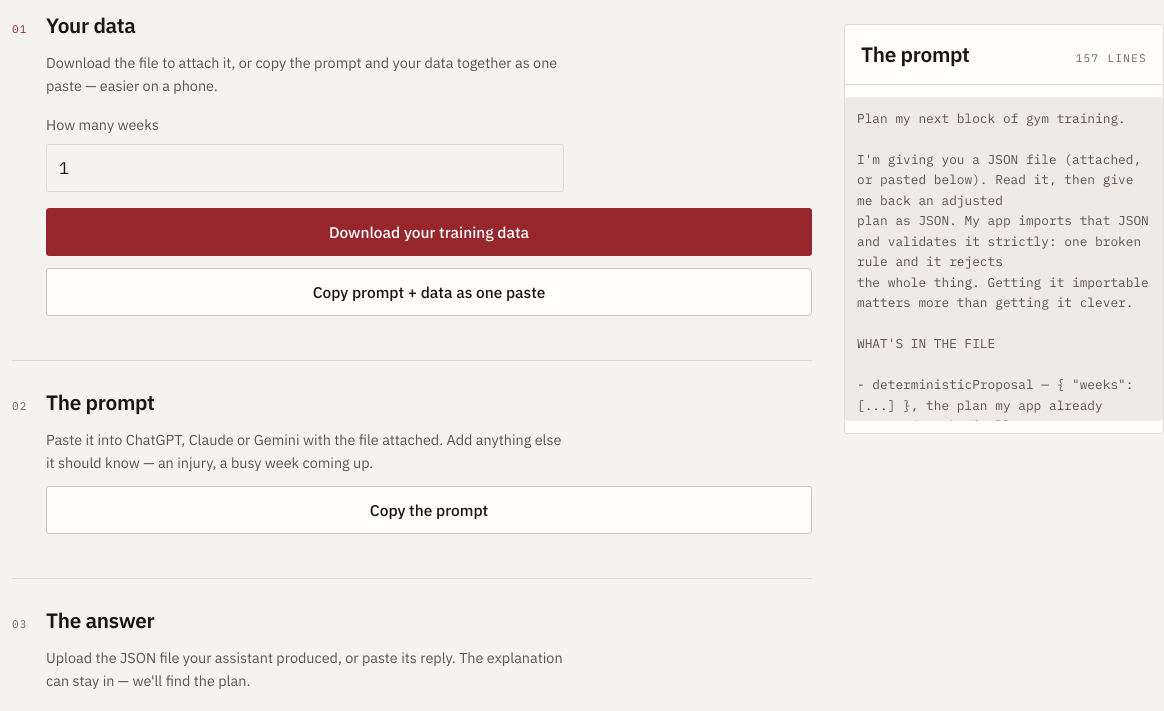
Test: Generate — step 1 download › shows an error instead of saving a blank file when the export body is empty
What coordinates should you click on to do the following:
click the button "Download your training data"
I would click on:
 (429, 232)
Its box is [46,208,812,256].
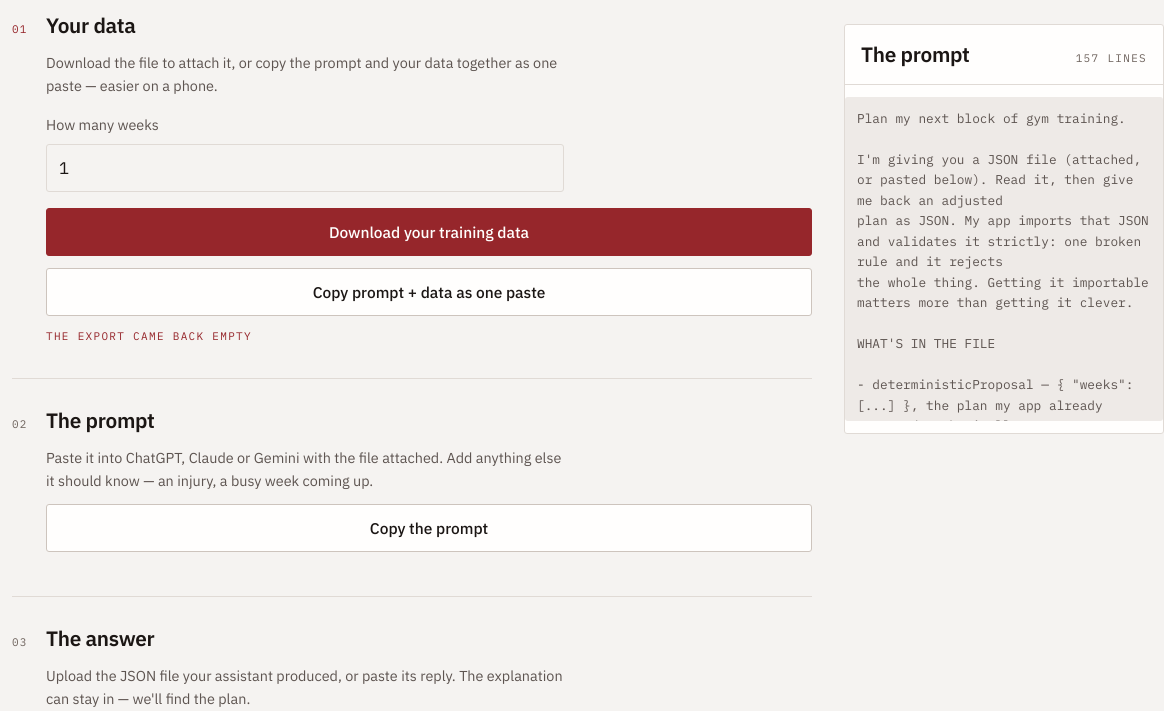
Expected: the text with class "eyebrow--accent" shows "empty", [46,329,252,343]
